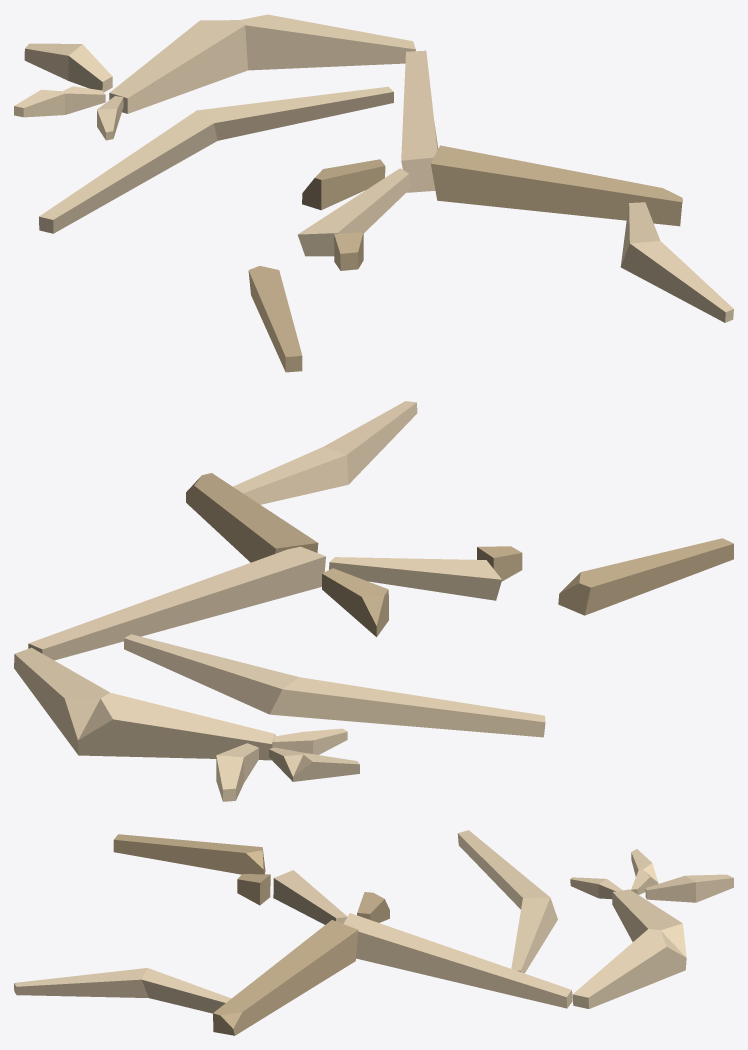
The model's file is Bone_Wing__0.glb.
3 views of the same model, one above another, from view 1: azimuth 30°, elevation 25°; view 2: azimuth 150°, elevation 25°; view 3: azimuth 270°, elevation 25° (orthographic). The views are drawn at different scales.
Visible parts, largest first — view 1: Bone_Wing__0; view 2: Bone_Wing__0; view 3: Bone_Wing__0.
Part boxes in pixels (x1,y1,x2,y2): Bone_Wing__0: (14, 14, 733, 372); Bone_Wing__0: (14, 401, 733, 801); Bone_Wing__0: (14, 830, 733, 1035).
Size of the model in its own units: 0.4772 by 0.0499 by 0.7357.
1 material, 1 textured.
